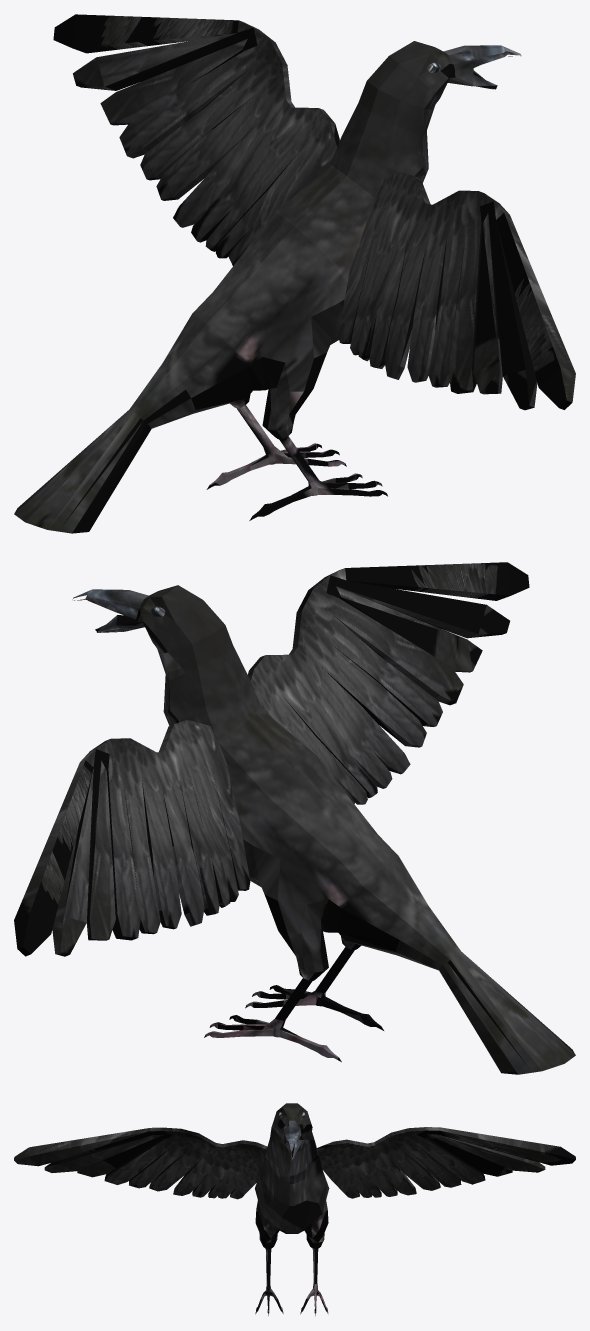
File: crowTextureAnim_000018.obj
The picture shows the model from 3 angles, top to bottom: view 1: azimuth 30°, elevation 25°; view 2: azimuth 150°, elevation 25°; view 3: azimuth 270°, elevation 25°; orthographic projection. The views are drawn at different scales.
Parts seen in each view (by area): view 1: Cylinder.001, Cylinder.002, Cylinder.003; view 2: Cylinder.001, Cylinder.003, Cylinder.002; view 3: Cylinder.002, Cylinder.003, Cylinder.001.
Boxes of the visible parts, x1=… form: Cylinder.001: x1=14, y1=41, x2=521, y2=533; Cylinder.002: x1=53, y1=14, x2=339, y2=265; Cylinder.003: x1=338, y1=172, x2=575, y2=410; Cylinder.001: x1=72, y1=585, x2=575, y2=1074; Cylinder.003: x1=248, y1=562, x2=529, y2=804; Cylinder.002: x1=14, y1=719, x2=250, y2=956; Cylinder.002: x1=317, y1=1127, x2=575, y2=1198; Cylinder.003: x1=14, y1=1127, x2=267, y2=1199; Cylinder.001: x1=255, y1=1103, x2=329, y2=1315.
Size of the model in its own units: 5.22 by 4.1 by 9.22.
